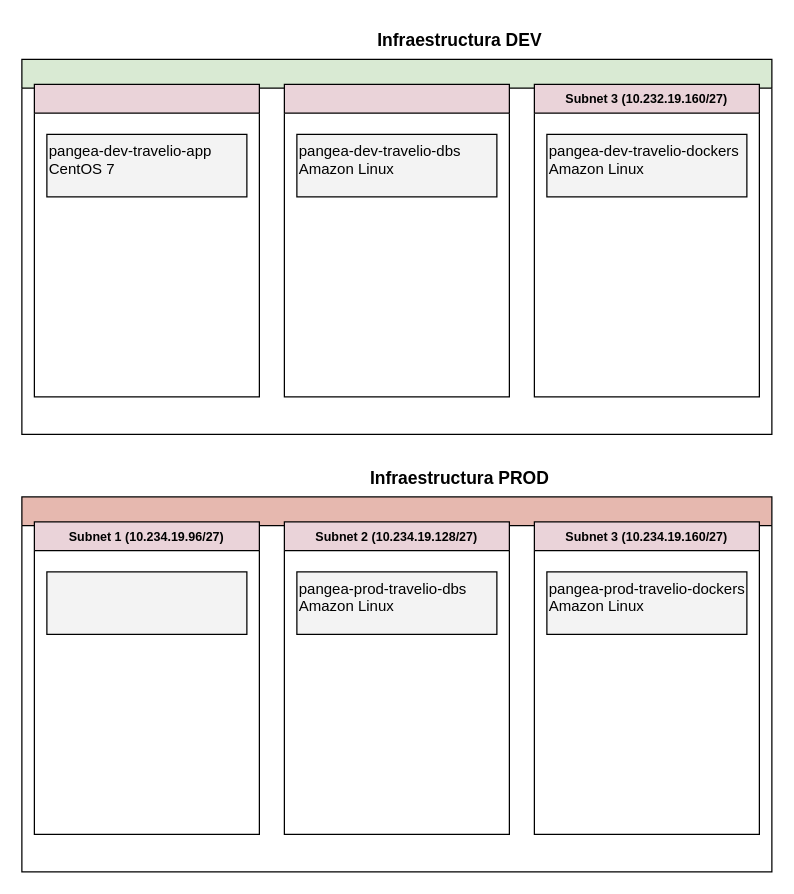
Some shapes in this 794 by 894 pixel diagram are drawn without their labels. The box of each missing label's shape, as (x1, y1, x2, y2) in pixels:
pangea-prod-travelio-app CentOS 7: (46, 571, 247, 634)
Subnet 1 (10.232.19.96/27): (33, 83, 259, 397)
Subnet 2 (10.232.19.128/27): (283, 83, 509, 397)
VPC DEV (10.232.0.0/16): (21, 58, 772, 434)
VPC PROD (10.234.0.0/16): (21, 496, 772, 872)
